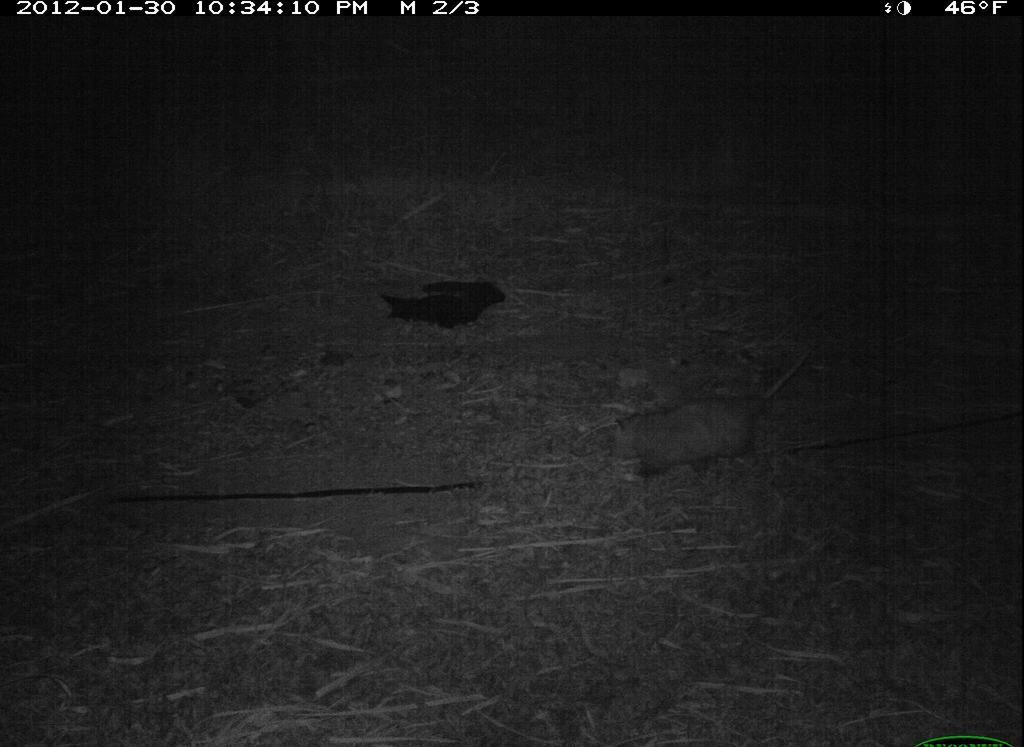opossum: (603, 356, 803, 491)
